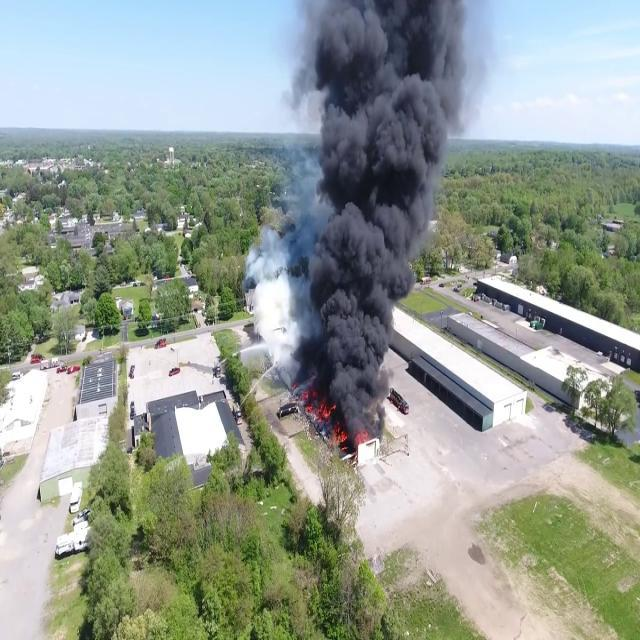Smoke: (244, 0, 467, 444)
